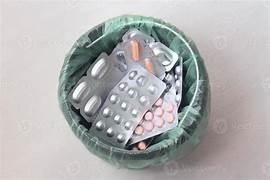pill_Strip: (69, 29, 164, 121), (89, 66, 165, 147), (69, 43, 133, 121), (69, 53, 126, 121), (129, 87, 177, 144), (80, 62, 125, 120), (112, 29, 164, 78), (69, 53, 108, 108), (111, 42, 164, 79), (111, 43, 164, 79), (130, 113, 175, 142), (87, 53, 126, 82), (137, 40, 164, 79), (122, 28, 154, 60), (163, 58, 182, 107), (149, 42, 181, 71), (163, 61, 181, 107), (110, 42, 137, 71), (79, 92, 103, 121), (69, 77, 90, 109), (110, 42, 132, 69), (122, 28, 154, 43), (89, 58, 109, 79), (110, 49, 129, 71), (174, 58, 182, 106), (111, 46, 126, 71), (83, 95, 100, 116), (128, 138, 153, 150), (163, 71, 174, 91), (130, 40, 139, 60), (175, 80, 181, 106), (139, 120, 153, 131), (144, 58, 154, 73), (164, 72, 174, 85), (174, 58, 181, 75), (174, 66, 181, 79), (134, 125, 143, 134), (154, 107, 163, 116), (175, 93, 181, 106), (137, 141, 146, 149), (155, 98, 161, 104), (119, 84, 124, 88)
